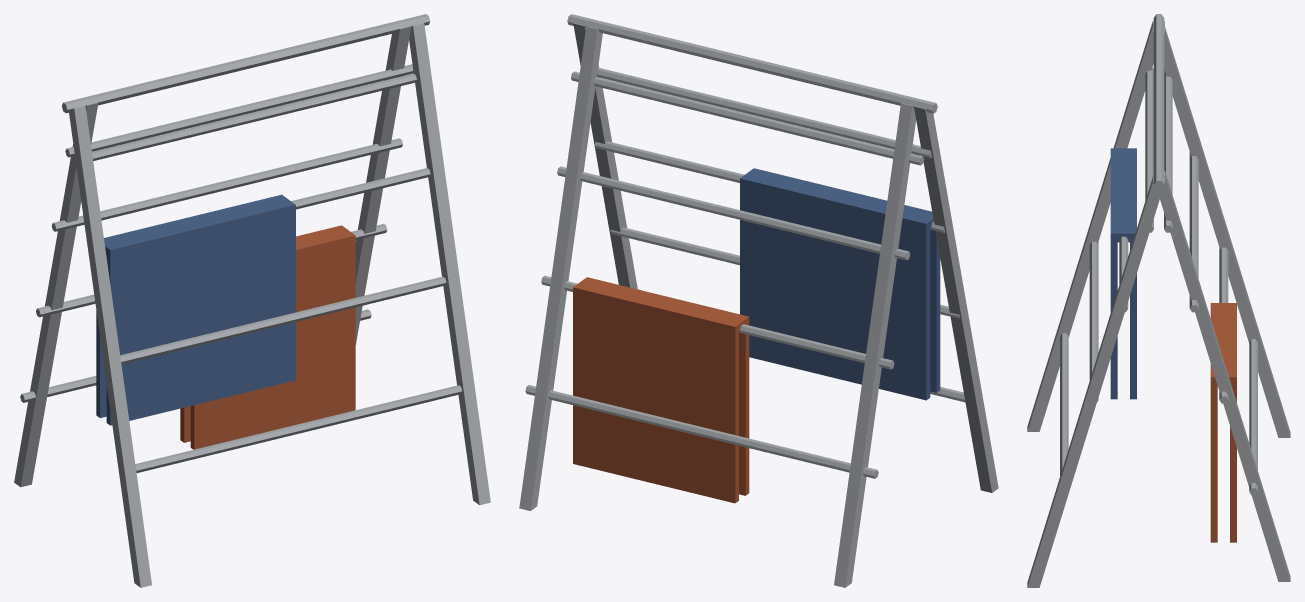
The model's file is FN_Airer_Clothes.obj.
The picture shows the model from 3 angles, left to right: view 1: azimuth 30°, elevation 25°; view 2: azimuth 150°, elevation 25°; view 3: azimuth 270°, elevation 25°; orthographic projection. The views are drawn at different scales.
Parts seen in each view (by area): view 1: FN_Airer_Clothes; view 2: FN_Airer_Clothes; view 3: FN_Airer_Clothes.
Part boxes in pixels (x1=…): FN_Airer_Clothes: x1=14, y1=14, x2=490, y2=587; FN_Airer_Clothes: x1=519, y1=14, x2=998, y2=587; FN_Airer_Clothes: x1=1027, y1=14, x2=1290, y2=587.
Size of the model in its own units: 0.9 by 1.03 by 0.6.
Materials: 1 (1 with a texture image).
